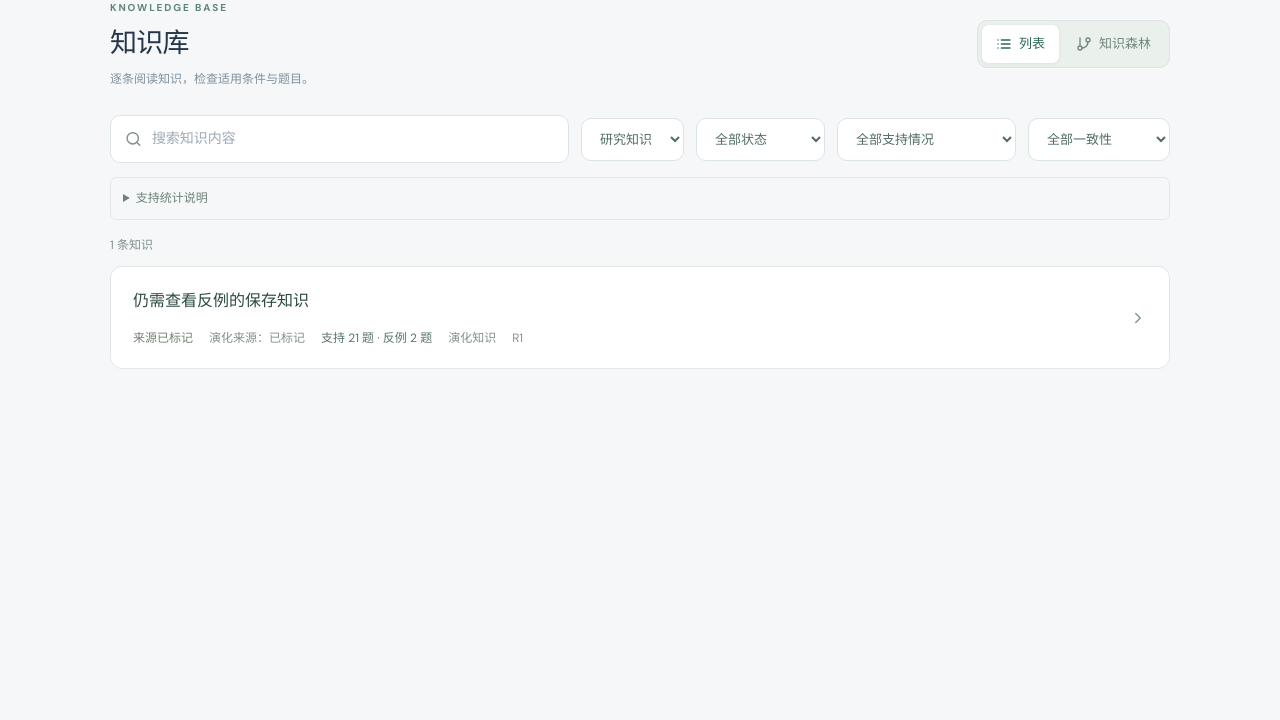
it: retains flagged evolution knowledge and counterexamples in the human library
The width and height of the screenshot is (1280, 720).
Expected: the text "来源已标记" is shown, [133,330,193,348]
Expected: the text "支持 21 题 · 反例 2 题" is shown, [321,330,432,348]
Select "高价值 · ≥20 道支持题" in the dropdown named "支持情况": (926, 139) [837,118,1016,160]
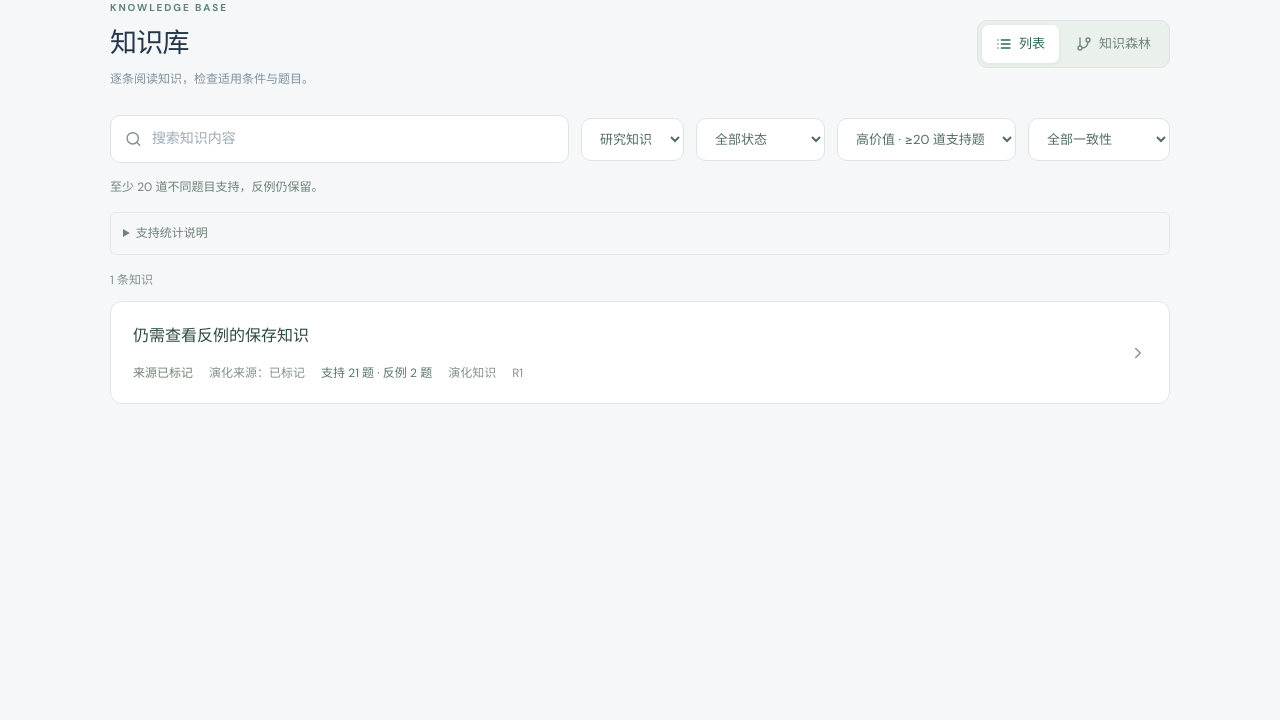
Click the button with aria-label "阅读 R1 仍需查看反例的保存知识": (221, 336) [110,302,1170,404]
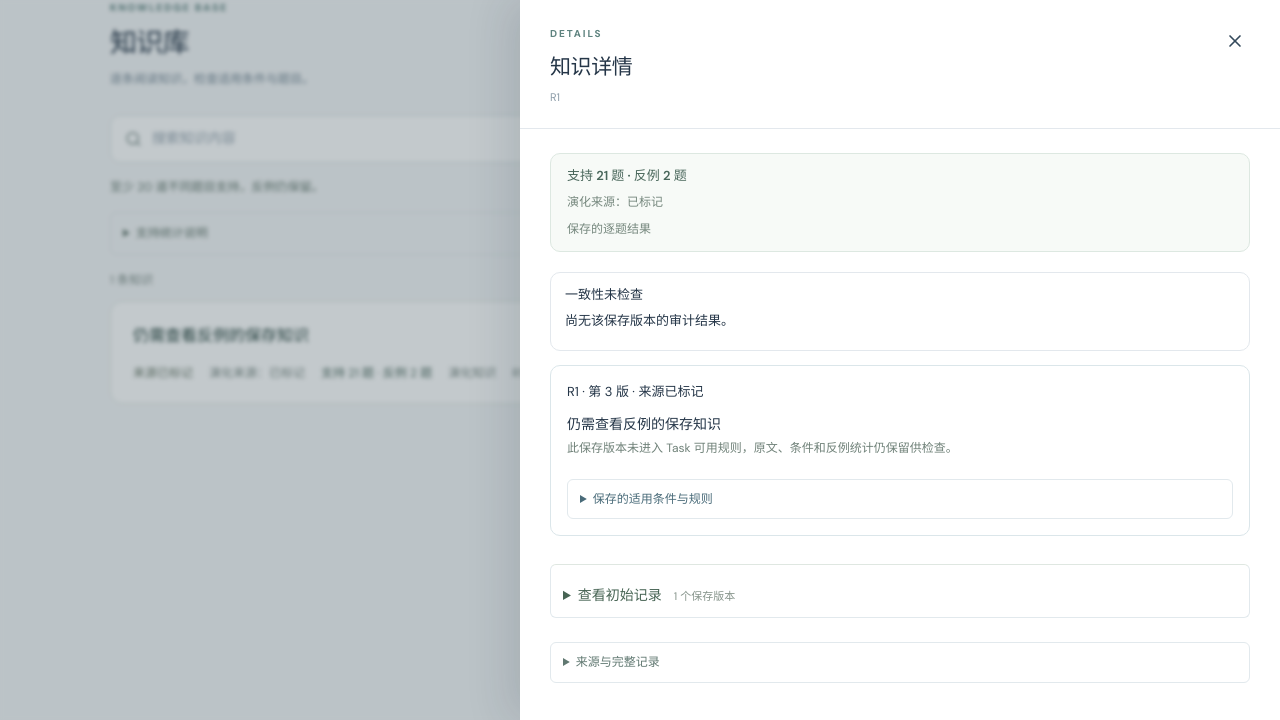
Expected: the heading "仍需查看反例的保存知识" is shown, [567,415,721,433]
Expected: the text "支持 21 题 · 反例 2 题" is shown, [567,167,687,184]
